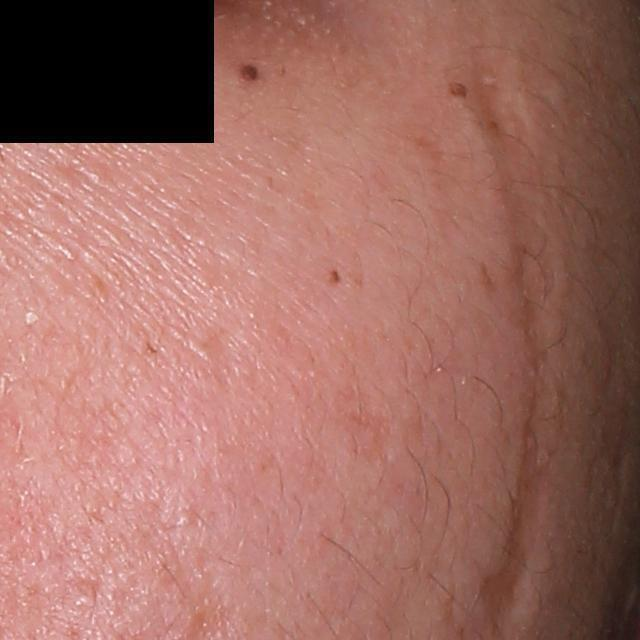nevus: (233, 59, 267, 86), (327, 263, 347, 287)
